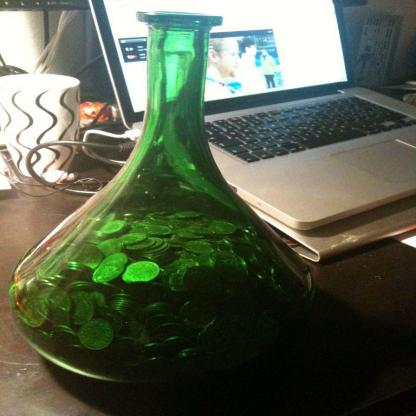board: (10, 11, 312, 388), (89, 0, 416, 230)
